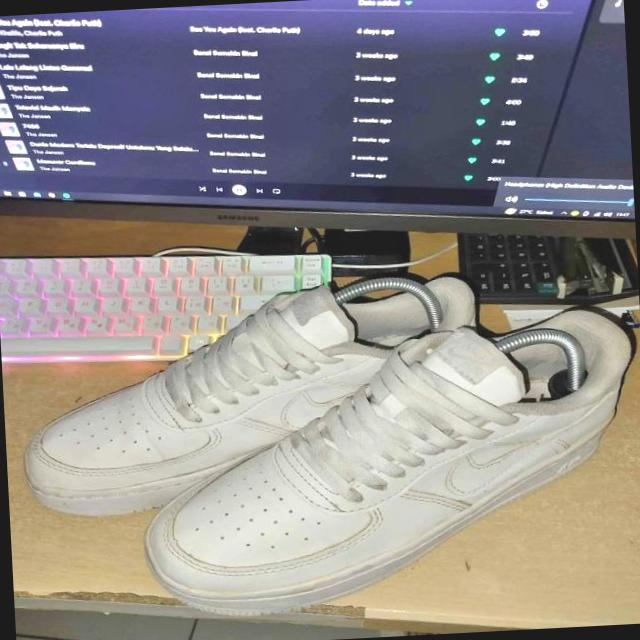nike_fake_airforce: (133, 306, 640, 625), (14, 272, 488, 520)
